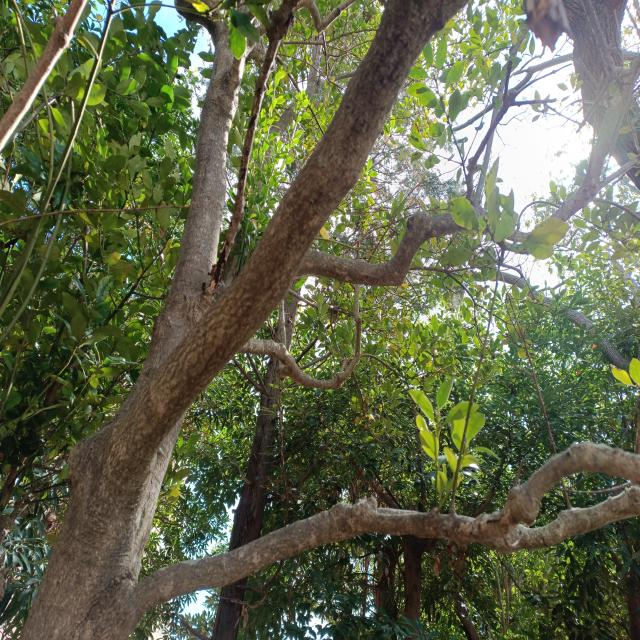Branch: (112, 1, 472, 488), (111, 500, 519, 640), (119, 2, 246, 420), (296, 179, 601, 287)
Twig: (500, 439, 640, 528), (519, 488, 639, 548), (586, 56, 640, 180), (597, 154, 640, 191)
